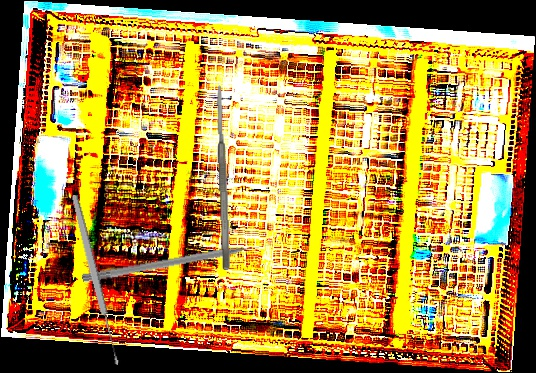Pusher: (81, 240, 273, 285)
Spatula Surgical: (214, 83, 232, 271)
Surgical Spoon: (69, 193, 122, 367)
